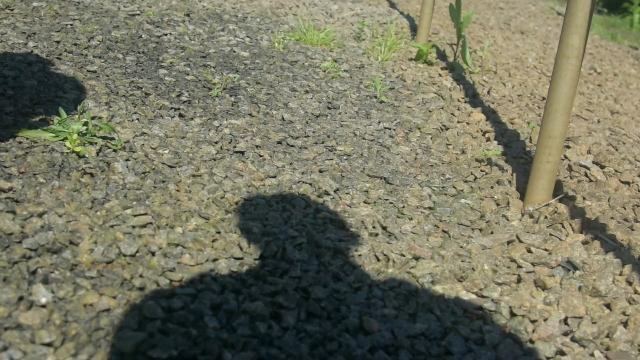MalezaMontesDelPlata: (5, 94, 132, 161), (407, 0, 495, 76), (263, 14, 340, 57), (363, 13, 408, 67), (199, 64, 245, 100), (358, 70, 394, 107), (309, 55, 349, 79)
